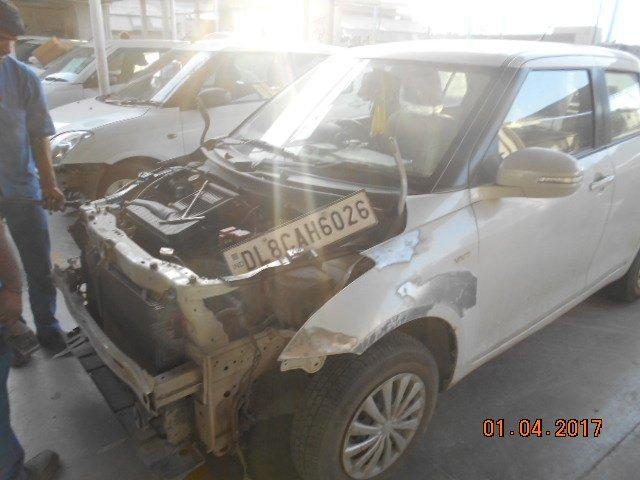Large_tear_or_damage: (82, 142, 436, 452)
